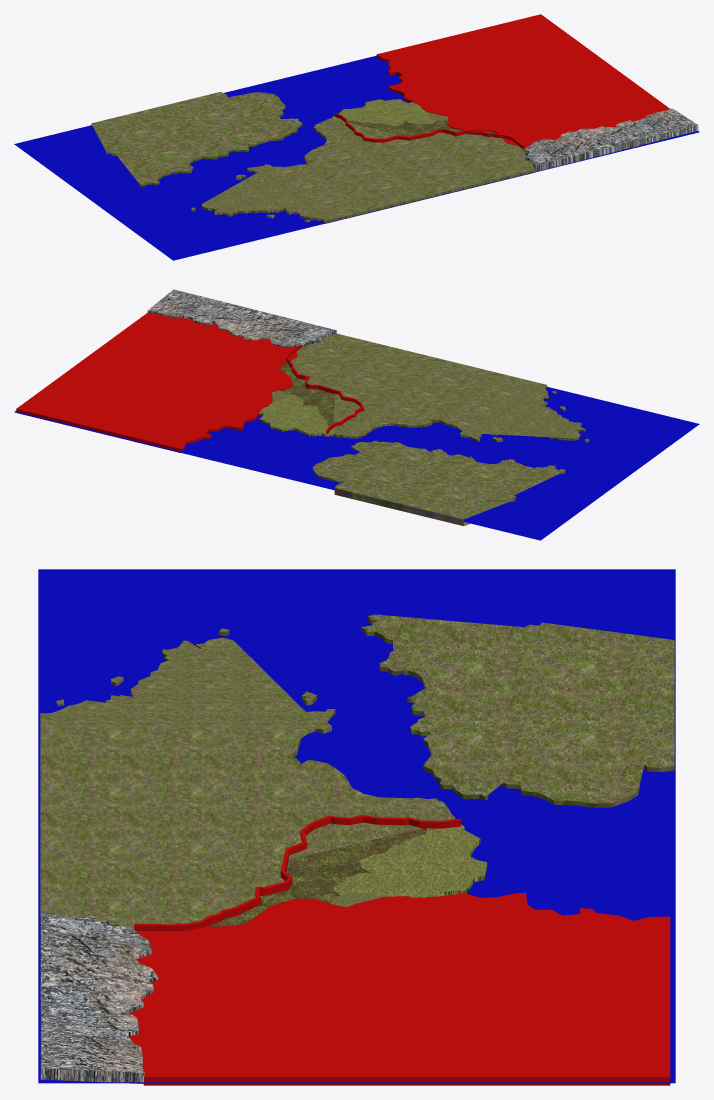
Rendered from TotalWW1 Enviroment.obj.
3 views of the same model, one above another, from view 1: azimuth 30°, elevation 25°; view 2: azimuth 150°, elevation 25°; view 3: azimuth 270°, elevation 25° (orthographic). The views are drawn at different scales.
Parts seen in each view (by area): view 1: Plane, Germany_Cube.043, France_Allies_borders_Cube.039, UK_Cube.044, Switzerland_Cube.041, Cube_Cube.001, The_War_Line_Cube.036, France_Axis_borders_Cube.040; view 2: Plane, Germany_Cube.043, France_Allies_borders_Cube.039, UK_Cube.044, Switzerland_Cube.041, Cube_Cube.001, France_Axis_borders_Cube.040, The_War_Line_Cube.036; view 3: Plane, Germany_Cube.043, France_Allies_borders_Cube.039, UK_Cube.044, Switzerland_Cube.041, Cube_Cube.001, France_Axis_borders_Cube.040, The_War_Line_Cube.036.
Boxes of the visible parts, x1,y1,x2,y2 form: Plane: (14,55,699,260); Germany_Cube.043: (376,14,669,148); France_Allies_borders_Cube.039: (191,118,535,223); UK_Cube.044: (91,92,302,187); Switzerland_Cube.041: (524,108,698,171); Cube_Cube.001: (332,99,436,126); The_War_Line_Cube.036: (334,112,524,149); France_Axis_borders_Cube.040: (348,121,496,136); Plane: (14,387,699,540); Germany_Cube.043: (16,312,297,452); France_Allies_borders_Cube.039: (291,333,589,442); UK_Cube.044: (312,440,565,526); Switzerland_Cube.041: (147,289,336,346); Cube_Cube.001: (259,394,333,436); France_Axis_borders_Cube.040: (280,362,334,425); The_War_Line_Cube.036: (286,344,364,433); Plane: (38,569,675,1083); Germany_Cube.043: (129,893,670,1085); France_Allies_borders_Cube.039: (40,628,455,928); UK_Cube.044: (361,614,674,807); Switzerland_Cube.041: (40,911,158,1083); Cube_Cube.001: (332,824,487,897); France_Axis_borders_Cube.040: (209,829,426,926); The_War_Line_Cube.036: (134,815,460,931).
Size of the model in its own units: 636 by 13.44 by 333.
